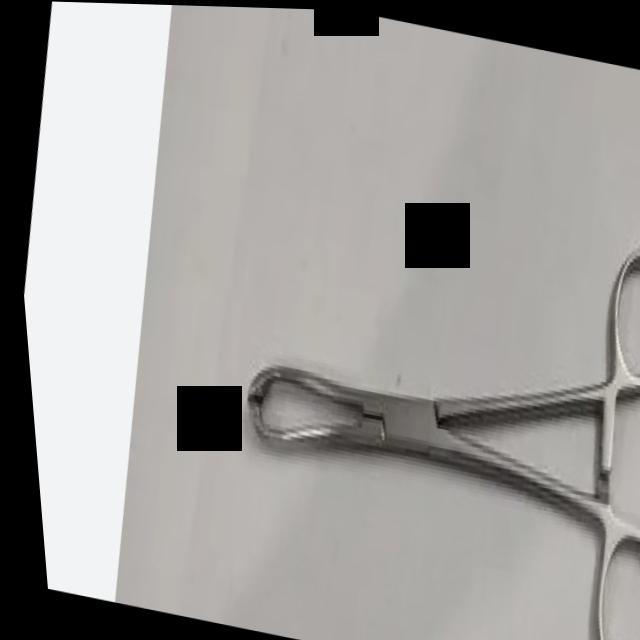Allis Forceps: (186, 154, 640, 640)
